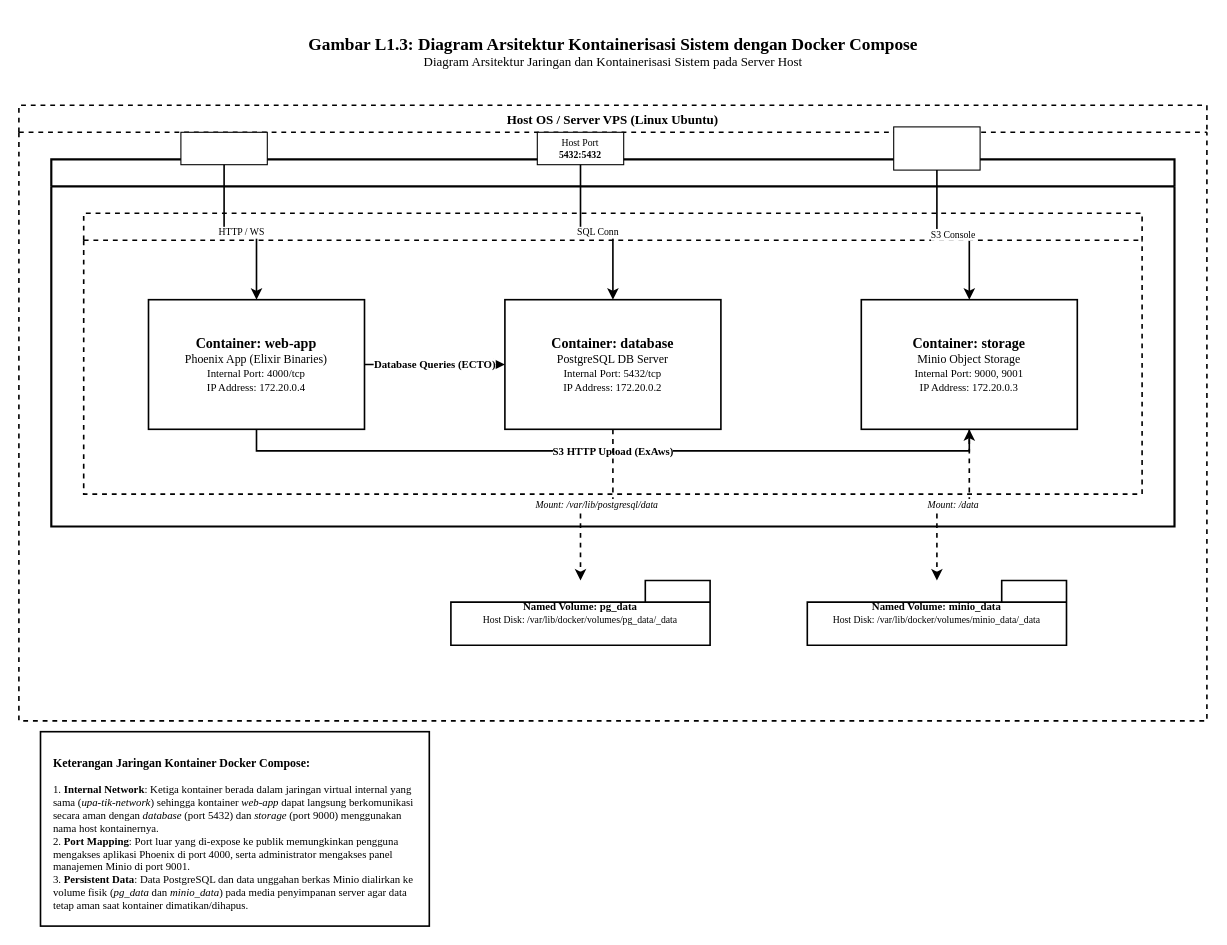
Image size: 1227x945. Some labels were removed from this diagram. Here are the shapes that lost their labels. From the top down, the box of each, then its label:
(180, 131, 267, 165): Host Port 4000:4000
(893, 126, 980, 170): Host Ports 9000:9000 9001:9001
(82, 212, 1142, 494): Docker Custom Bridge Network (upa-tik-network)
(50, 158, 1175, 527): Docker Engine (Docker Compose environment)
